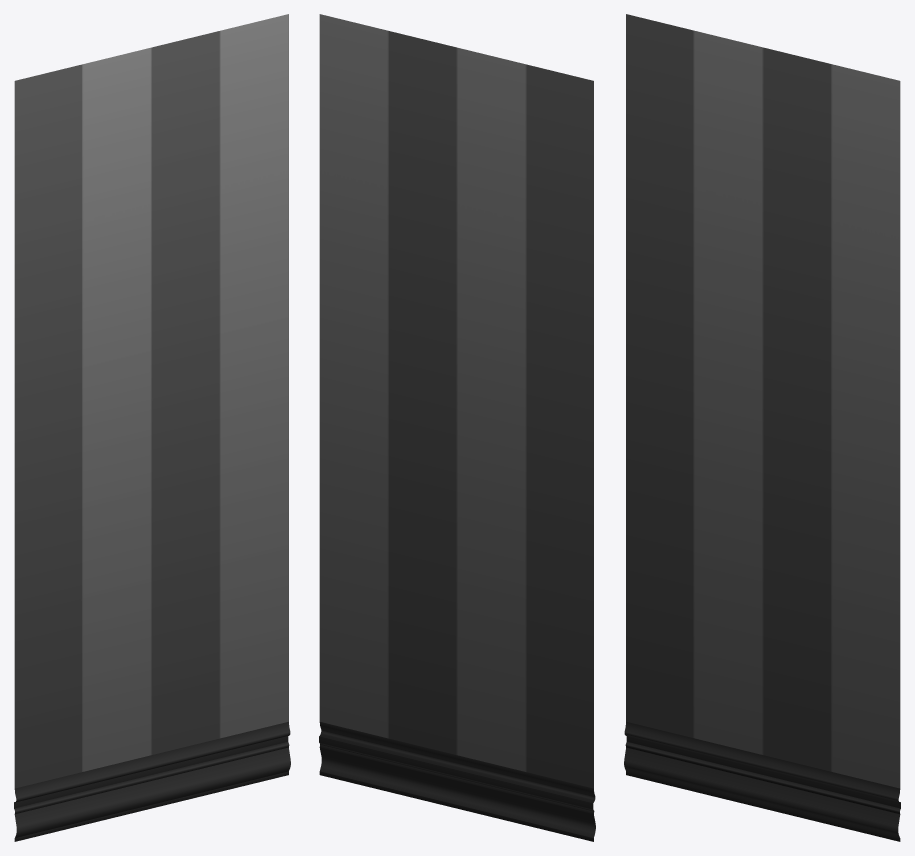
Rendered from Wall_03_single.fbx.
3 views of the same model, side by side, from view 1: azimuth 30°, elevation 25°; view 2: azimuth 150°, elevation 25°; view 3: azimuth 330°, elevation 25° (orthographic).
Parts seen in each view (by area): view 1: Wall_03_Single; view 2: Wall_03_Single; view 3: Wall_03_Single.
Part boxes in pixels (<box>): Wall_03_Single: <box>14,14,290,841</box>; Wall_03_Single: <box>319,14,595,841</box>; Wall_03_Single: <box>624,14,900,841</box>.
Bounding box in the file's own units: 1 × 2.65 × 0.0178.
